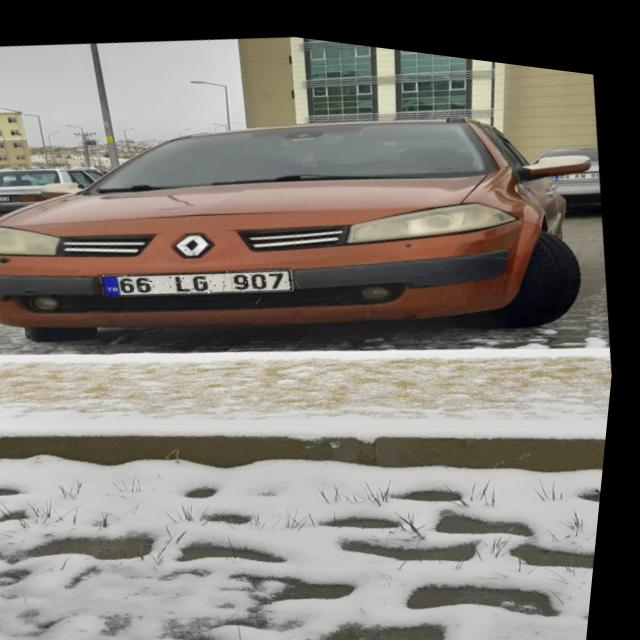license_plate: (104, 242, 299, 311)
